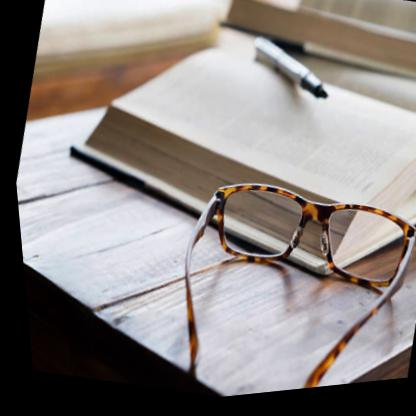Spectacles: (189, 165, 415, 334)
